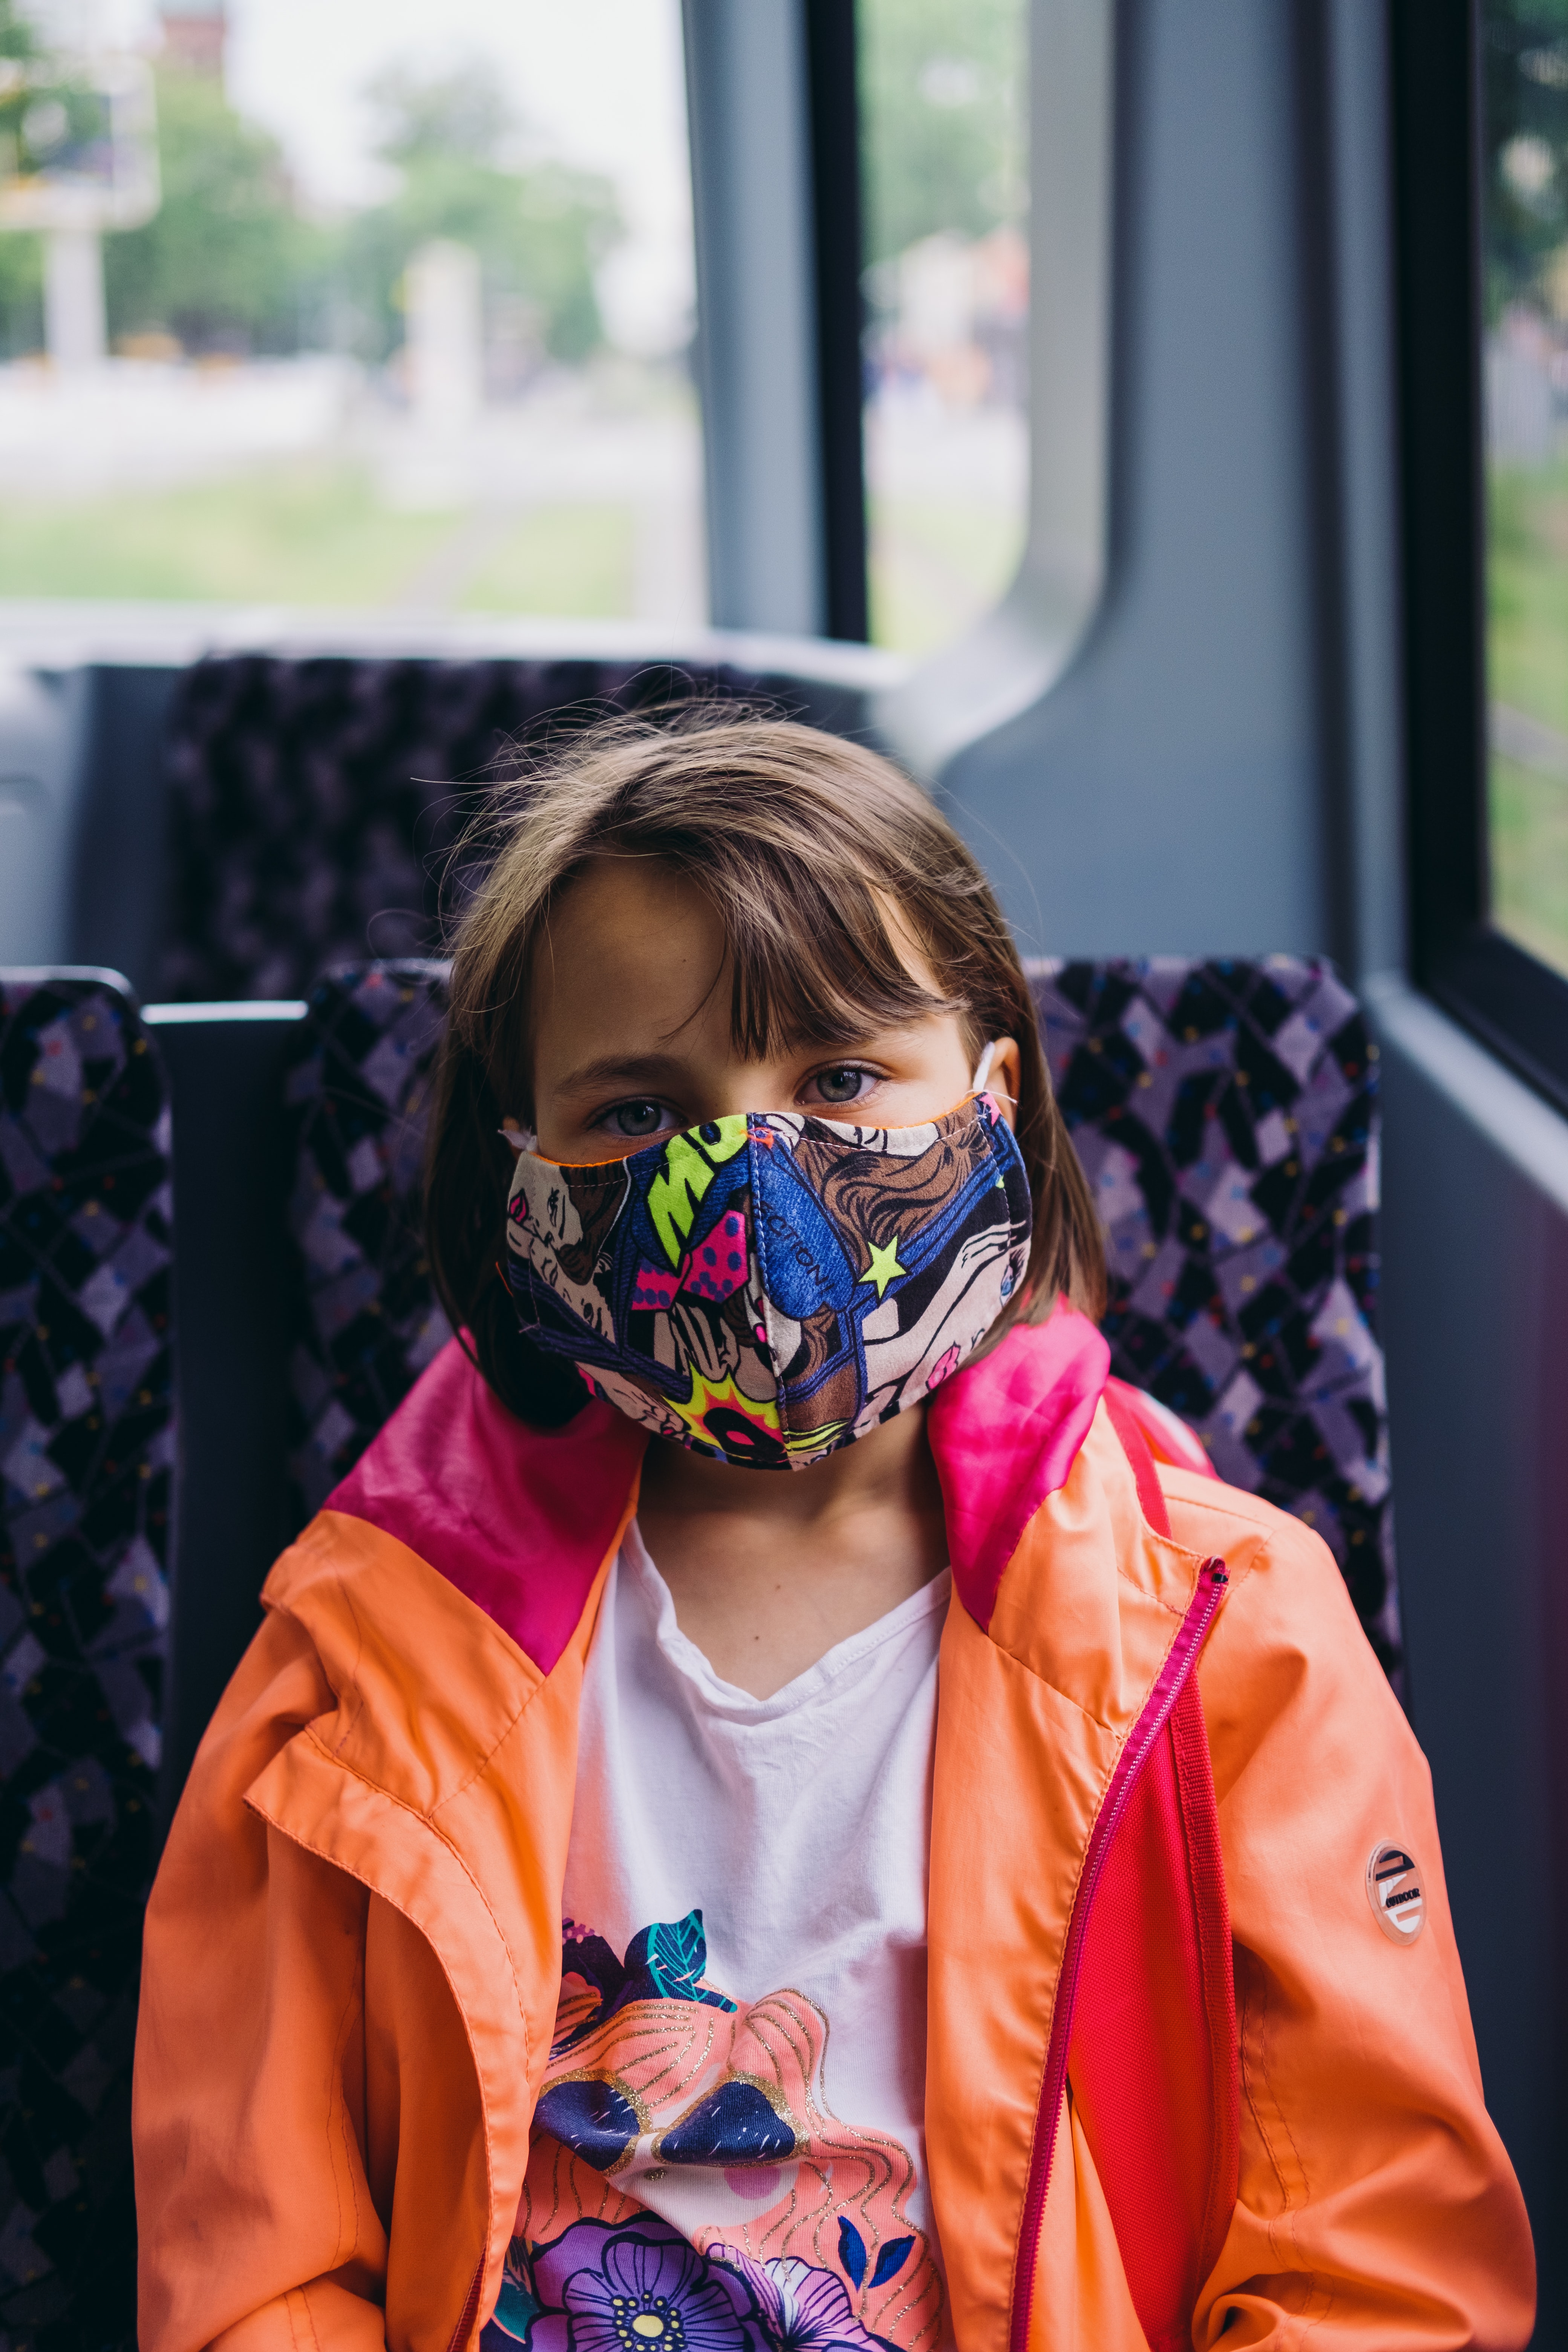mask: (477, 1110, 1075, 1481)
person: (173, 706, 1516, 2352)
